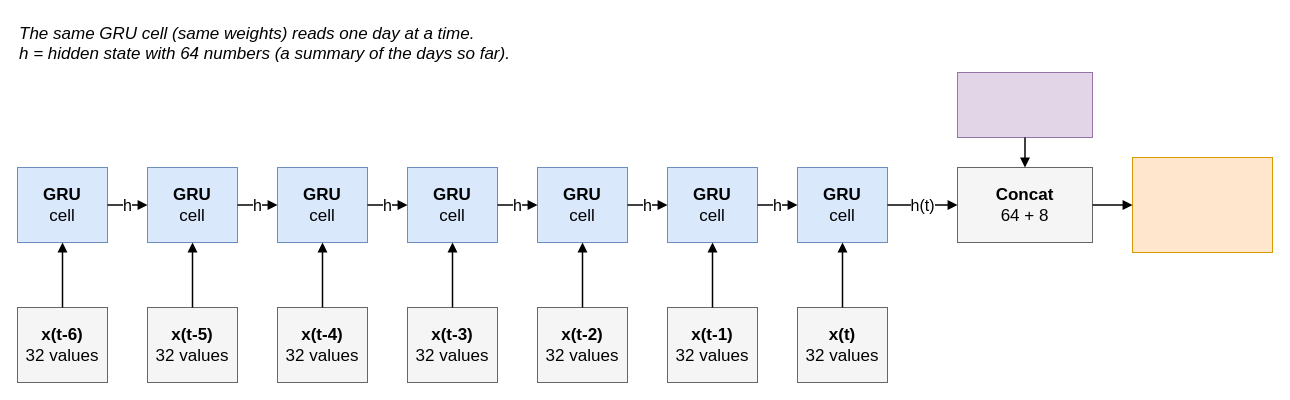
This 1290x400 diagram has some shape labels left out. Here are the shapes that lost their labels. From the top down, the centre of each, then its label:
point 1024,105: Station embedding 8
point 1202,204: Head 72 → 32 → 1 p = σ(z)
